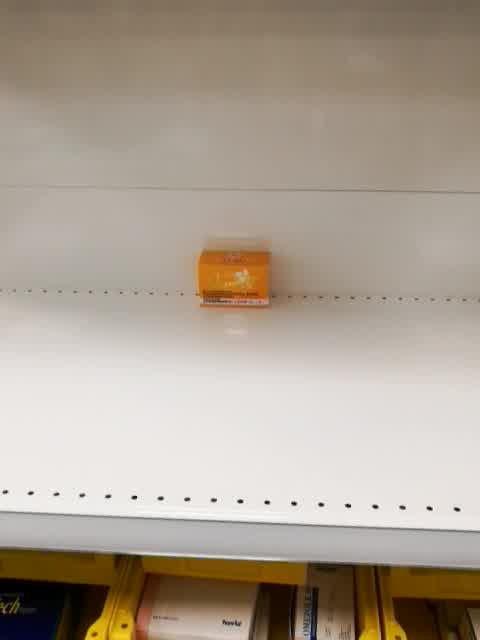jasminetea: (195, 250, 273, 311)
